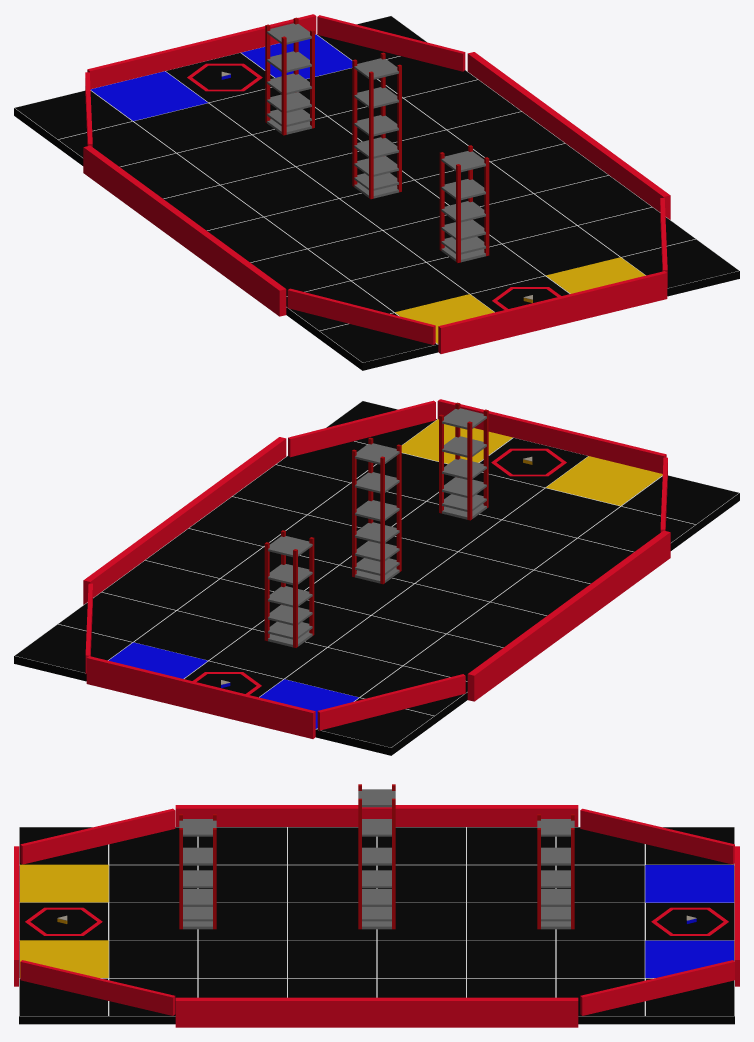
Rendered from game_field.glb.
3 views of the same model, one above another, from view 1: azimuth 30°, elevation 25°; view 2: azimuth 150°, elevation 25°; view 3: azimuth 270°, elevation 25° (orthographic). The views are drawn at different scales.
Parts seen in each view (by area): view 1: Field, Cube.031, Cube, Cube.032, Cube.030, Plane.003, Cube.034, Cube.036, Plane.004, Plane.002, Plane.001, Cube.004 (+6 smaller); view 2: Field, Cube.031, Cube.030, Cube.032, Cube, Plane.001, Cube.035, Cube.033, Plane.002, Plane.004, Plane.003, Cube.003 (+6 smaller); view 3: Field, Cube.032, Cube.031, Plane.001, Plane.003, Cube.033, Cube.034, Cube.036, Cube.035, Plane.004, Plane.002, Cube (+21 smaller).
Boxes of the visible parts, <box> form: Field: <box>14,15,739,370</box>; Cube.031: <box>83,145,286,316</box>; Cube: <box>438,271,667,353</box>; Cube.032: <box>467,52,670,219</box>; Cube.030: <box>87,14,316,88</box>; Plane.003: <box>90,71,207,120</box>; Cube.034: <box>287,288,435,344</box>; Cube.036: <box>317,15,465,71</box>; Plane.004: <box>241,34,352,78</box>; Plane.002: <box>546,257,645,293</box>; Plane.001: <box>395,294,494,343</box>; Cube.004: <box>352,59,357,186</box>; Field: <box>14,400,739,755</box>; Cube.031: <box>467,530,670,701</box>; Cube.030: <box>86,656,315,738</box>; Cube.032: <box>83,437,286,604</box>; Cube: <box>437,399,666,473</box>; Plane.001: <box>546,456,662,505</box>; Cube.035: <box>317,674,465,731</box>; Cube.033: <box>288,400,435,457</box>; Plane.002: <box>401,419,512,463</box>; Plane.004: <box>109,642,207,678</box>; Plane.003: <box>259,679,358,728</box>; Cube.003: <box>396,444,401,571</box>; Field: <box>19,827,734,1024</box>; Cube.032: <box>175,997,578,1027</box>; Cube.031: <box>175,805,578,826</box>; Plane.001: <box>20,864,108,902</box>; Plane.003: <box>645,865,733,902</box>; Cube.033: <box>20,960,175,1015</box>; Cube.034: <box>20,808,175,864</box>; Cube.036: <box>580,960,734,1015</box>; Cube.035: <box>580,808,734,864</box>; Plane.004: <box>645,940,733,977</box>; Plane.002: <box>20,940,108,977</box>; Cube: <box>14,846,19,986</box>.
Size of the model in its own units: 6.31 by 2.07 by 9.89.
